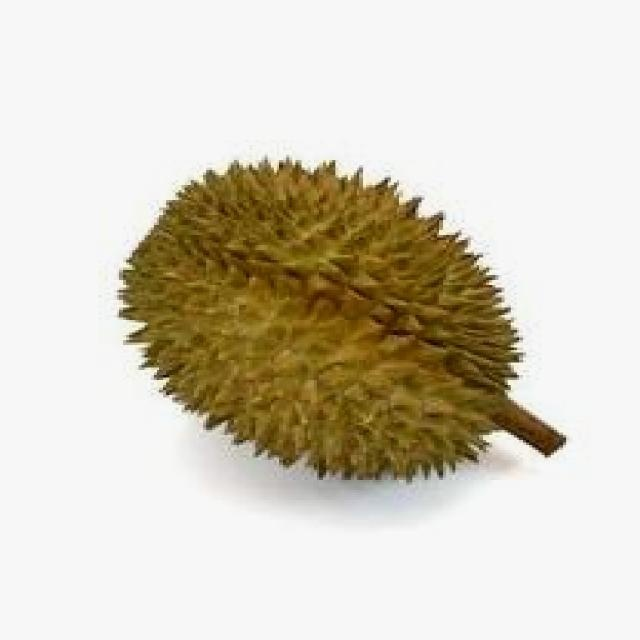agrume: (98, 130, 520, 505)
